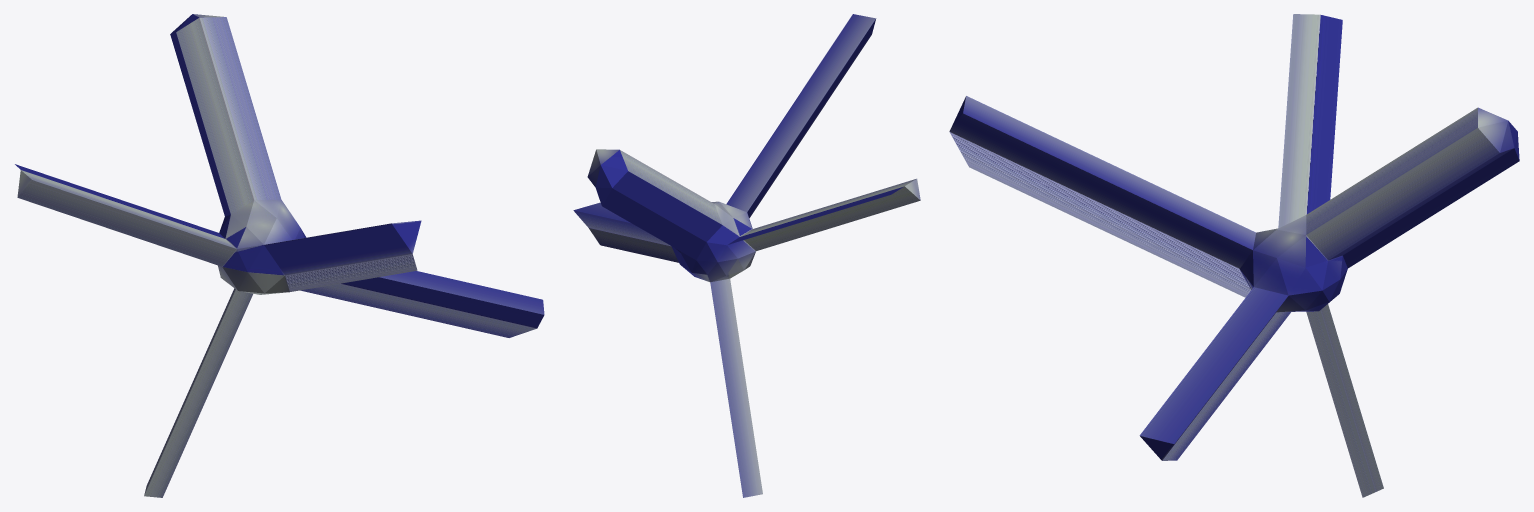
File: weird.obj
3 renders of one model, left to right at view 1: azimuth 30°, elevation 25°; view 2: azimuth 150°, elevation 25°; view 3: azimuth 270°, elevation 25°, orthographic. The views are drawn at different scales.
Parts seen in each view (by area): view 1: Icosphere; view 2: Icosphere; view 3: Icosphere.
Part boxes in pixels (x1,y1,x2,y2): Icosphere: (15,14,544,497); Icosphere: (573,14,920,497); Icosphere: (949,14,1519,497).
Size of the model in its own units: 13.1 by 11.27 by 13.32.
1 material, 1 textured.
